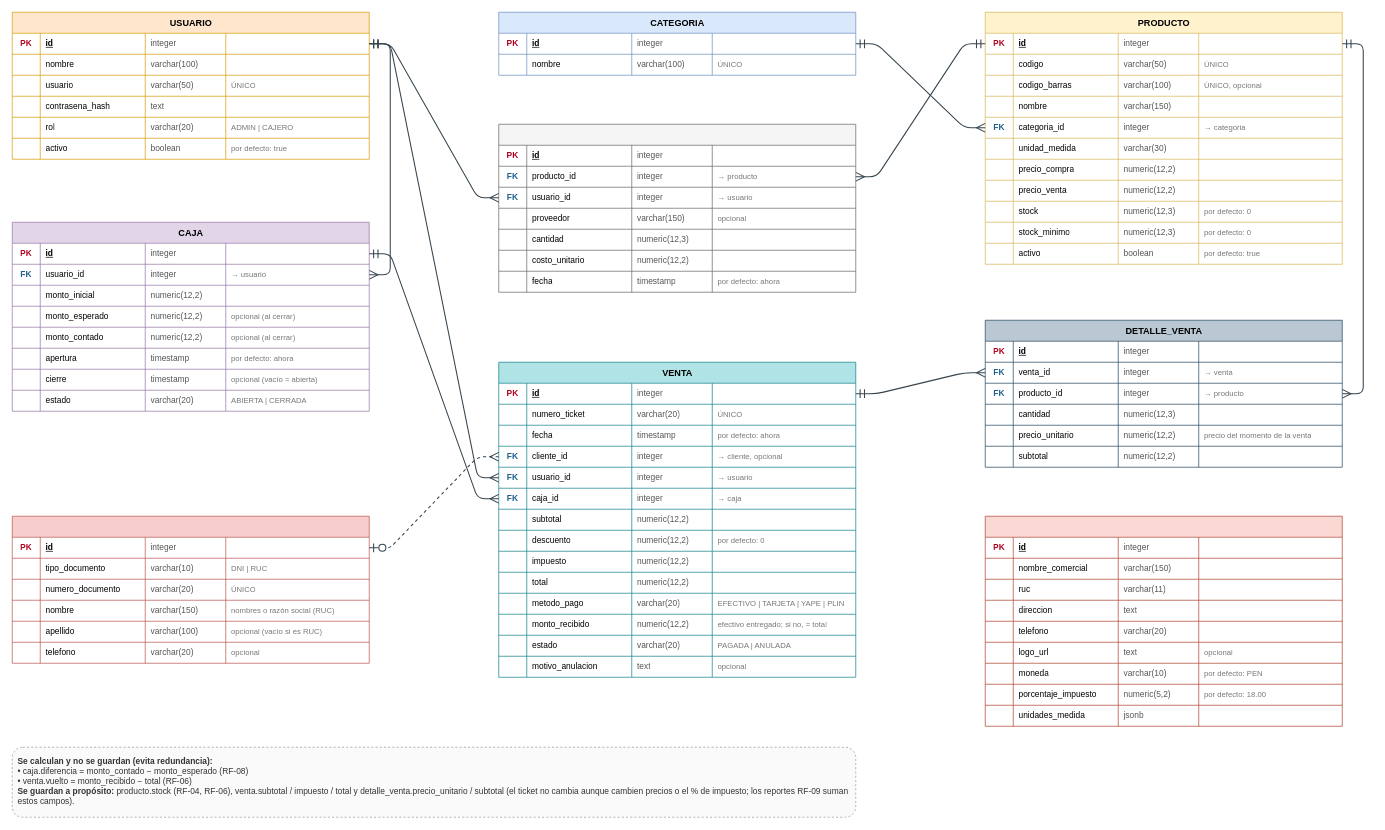
The diagram is 1385 pixels wide and 830 high, and some of its shapes have lost their labels. The box of each missing label's shape, as (x1, y1, x2, y2) in pixels:
CLIENTE: (12, 516, 369, 663)
ENTRADA_INVENTARIO: (498, 124, 856, 292)
NEGOCIO: (985, 516, 1342, 726)
